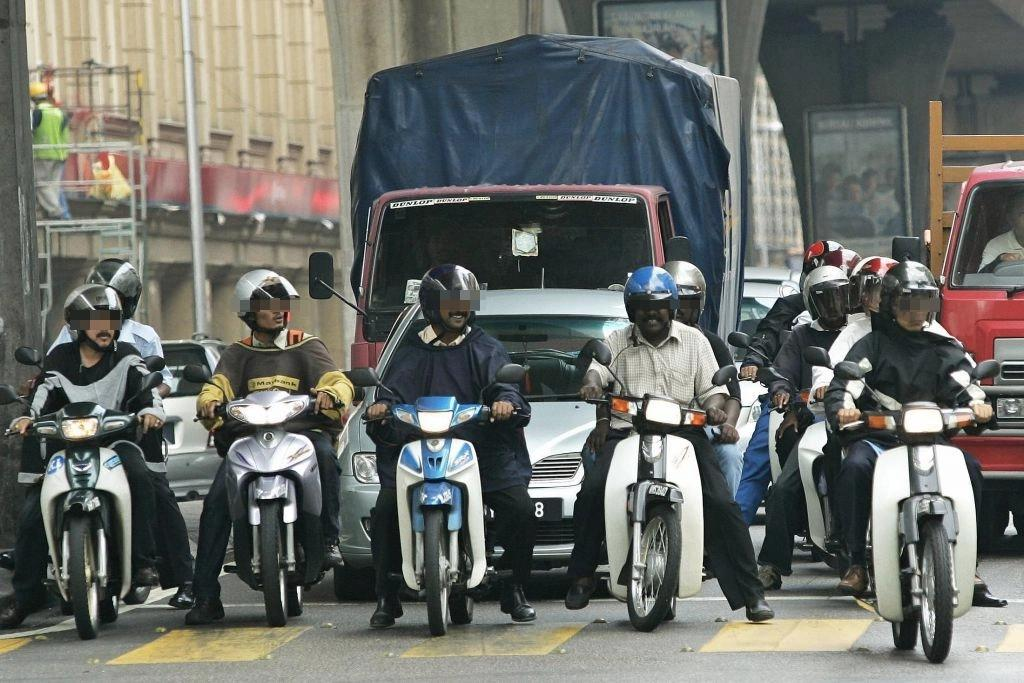helmet: (879, 261, 940, 332), (418, 263, 481, 330), (234, 269, 300, 330), (63, 283, 124, 348), (623, 265, 679, 333), (84, 257, 142, 322), (652, 260, 707, 325), (857, 257, 910, 320), (802, 265, 854, 322)
